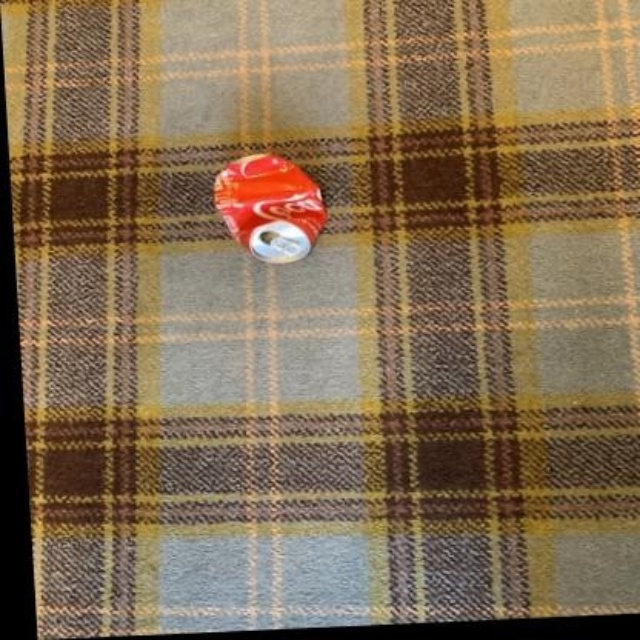trash: (214, 154, 325, 263)
